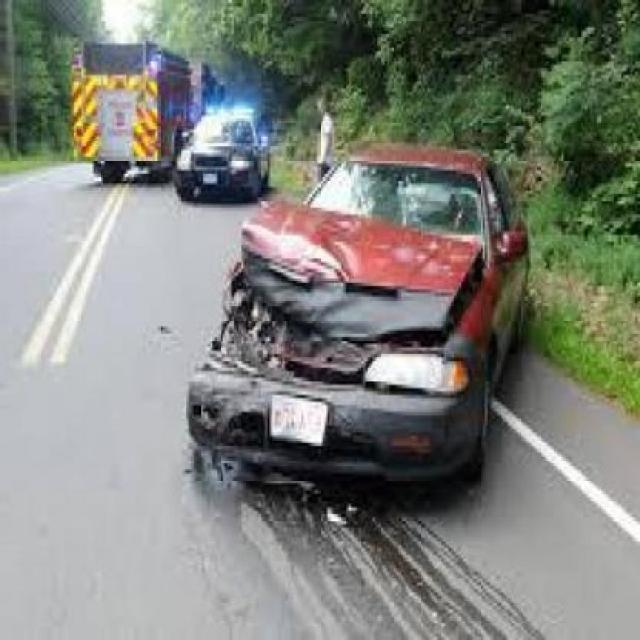damage: (182, 200, 483, 470)
